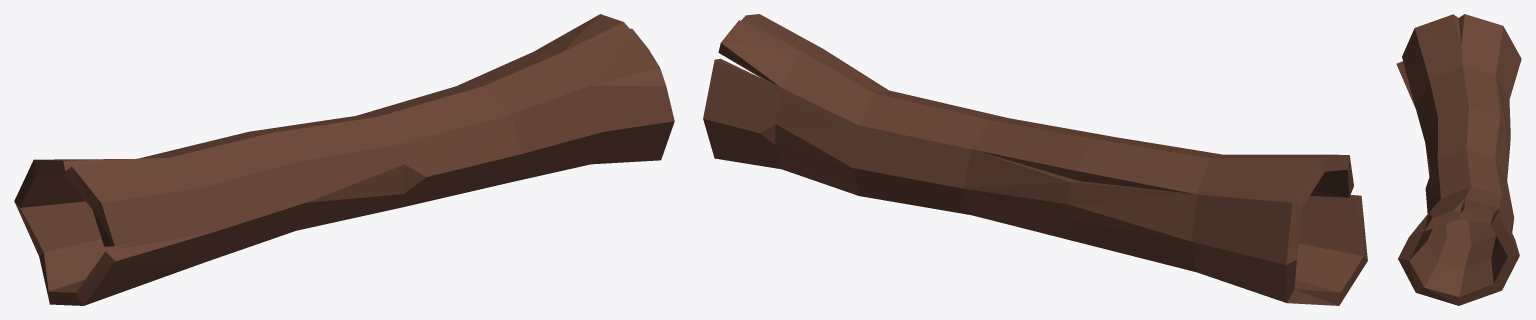
The model's file is Tree_Trunk_2.fbx.
3 renders of one model, left to right at view 1: azimuth 30°, elevation 25°; view 2: azimuth 150°, elevation 25°; view 3: azimuth 270°, elevation 25°, orthographic. The views are drawn at different scales.
Visible parts, largest first — view 1: Tree_Trunk_2; view 2: Tree_Trunk_2; view 3: Tree_Trunk_2.
Part boxes in pixels (x1,y1,x2,y2): Tree_Trunk_2: (14, 14, 674, 305); Tree_Trunk_2: (703, 14, 1367, 305); Tree_Trunk_2: (1396, 14, 1521, 305).
Size of the model in its own units: 3.13 by 0.7052 by 0.8022.
